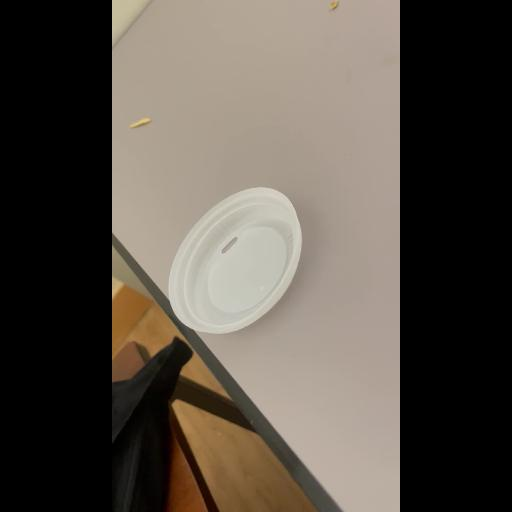lp_cup_lids: (153, 175, 321, 349)
